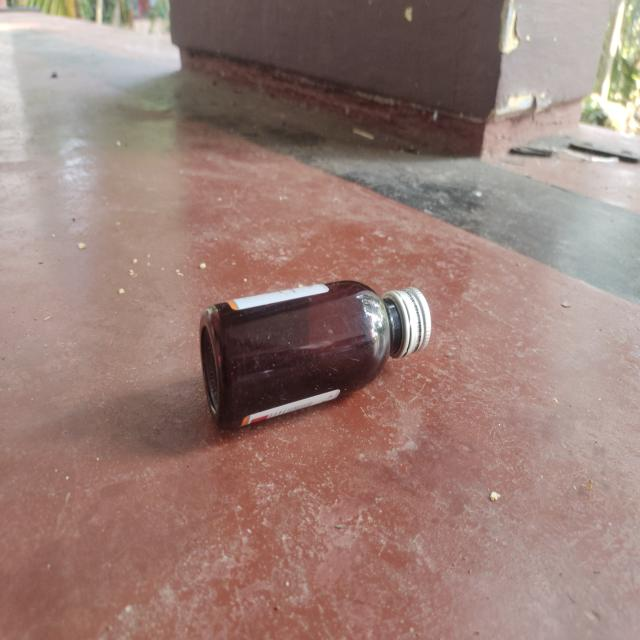plastic: (195, 275, 437, 432)
